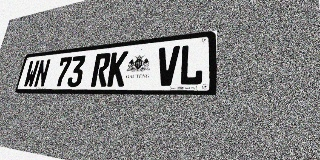3: (66, 55, 86, 87)
7: (53, 56, 73, 87)
K: (107, 51, 129, 87)
L: (178, 43, 204, 86)
N: (33, 59, 51, 87)
R: (90, 52, 112, 87)
V: (156, 45, 180, 86)
W: (23, 60, 40, 88)
